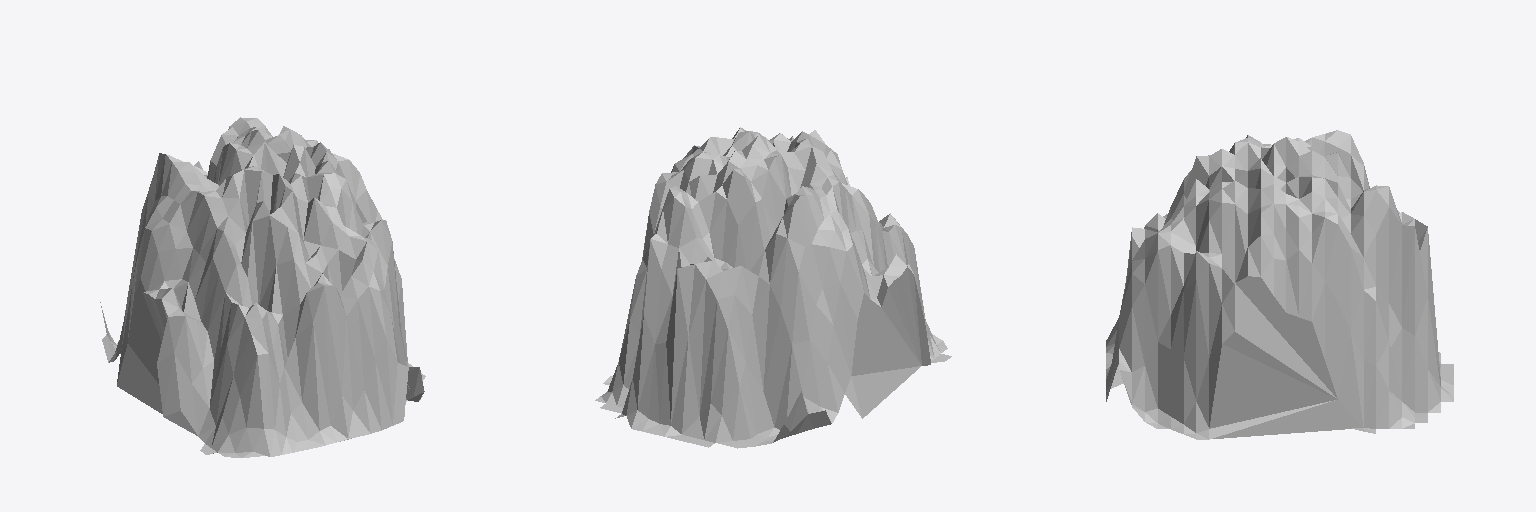
The model's file is tree_39.obj.
3 renders of one model, left to right at view 1: azimuth 30°, elevation 25°; view 2: azimuth 150°, elevation 25°; view 3: azimuth 270°, elevation 25°, orthographic.
Visible parts, largest first — view 1: tree_39_minus_dtm; view 2: tree_39_minus_dtm; view 3: tree_39_minus_dtm.
Boxes of the visible parts, x1=… form: tree_39_minus_dtm: x1=100, y1=117, x2=425, y2=457; tree_39_minus_dtm: x1=595, y1=127, x2=951, y2=448; tree_39_minus_dtm: x1=1106, y1=130, x2=1453, y2=439.
Size of the model in its own units: 23 by 20.95 by 27.